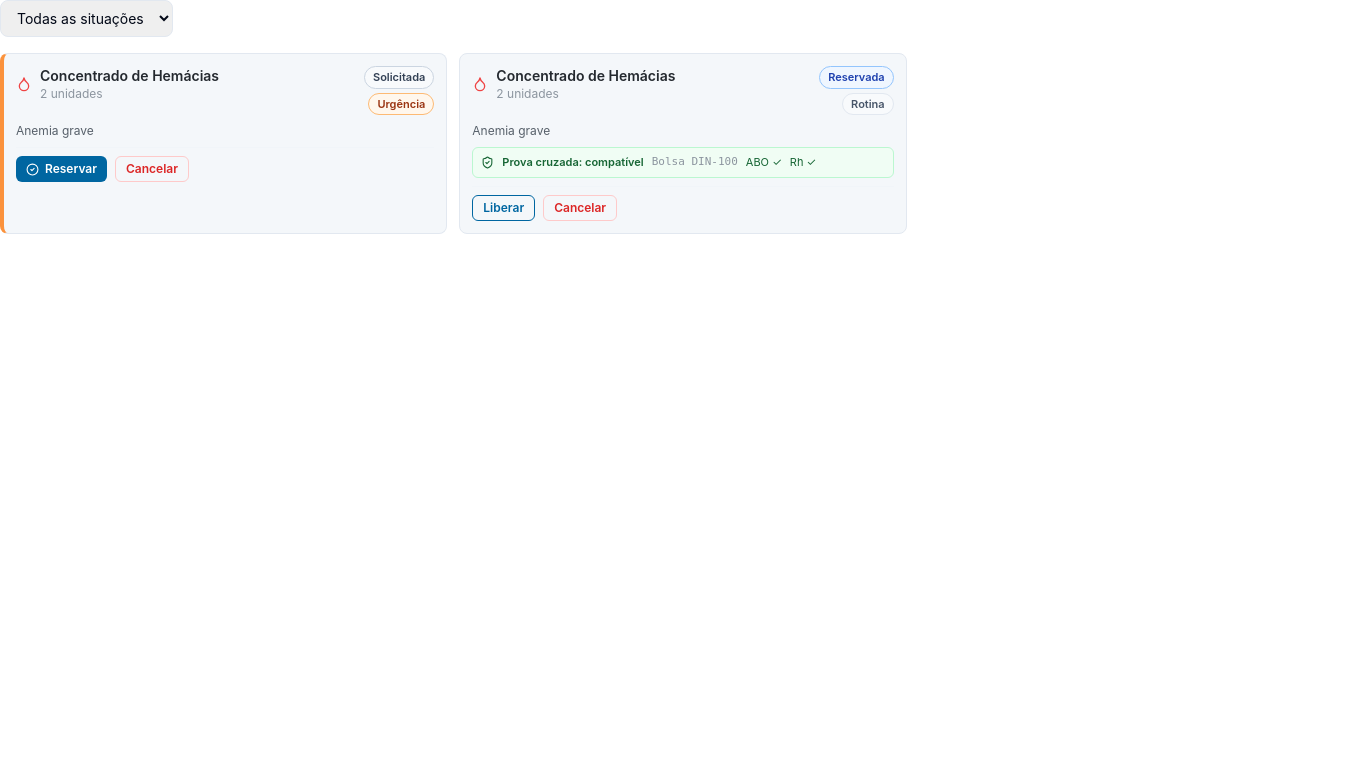
Test: TransfusionRequestQueue › opens the cancel modal
The width and height of the screenshot is (1366, 768).
Expected: the element named "Requisição r1" is shown, [0, 53, 447, 234]
Click the button "Cancelar" below "Urgência": [152, 169] box [115, 156, 189, 182]
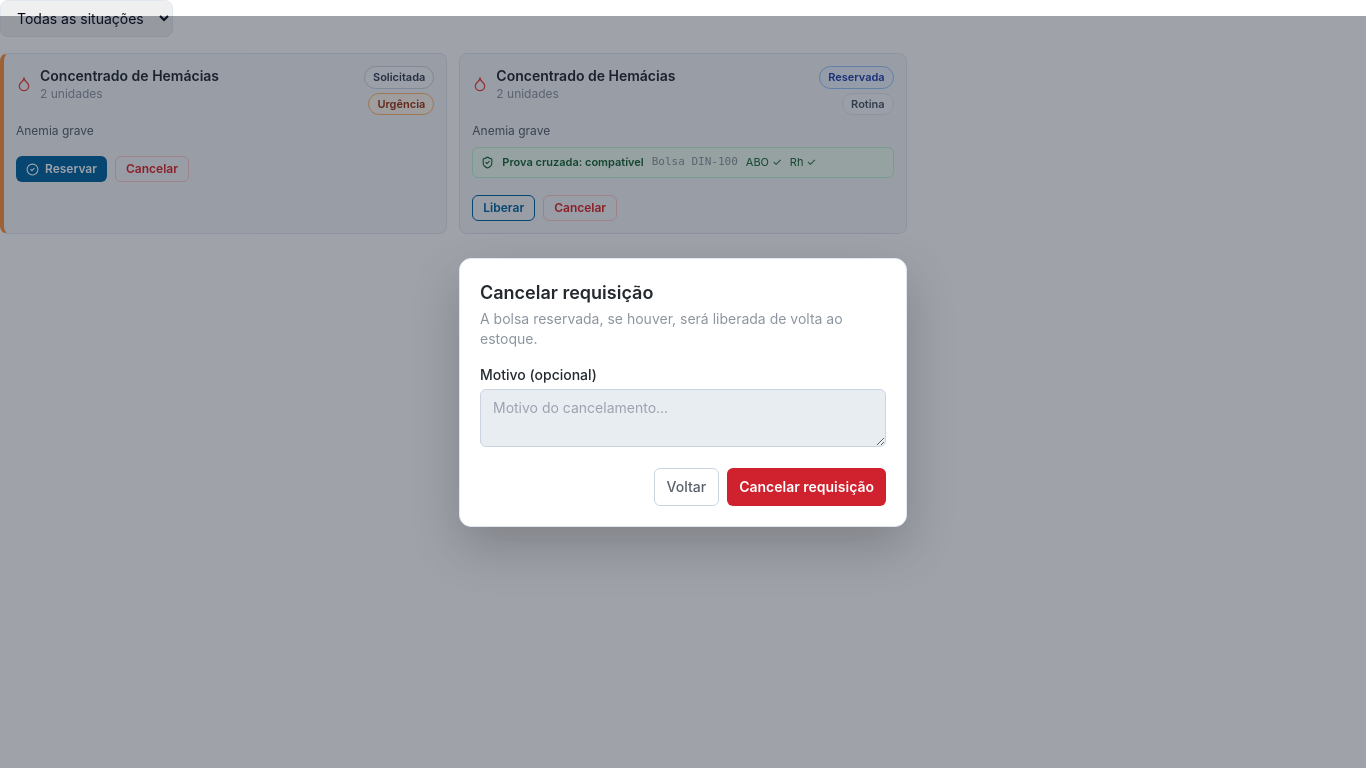
Expected: the dialog named "Cancelar requisição transfusional" is shown
